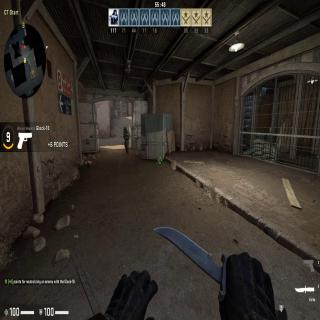CT-Body: (122, 125, 129, 150)
CT-Head: (123, 125, 127, 130)
